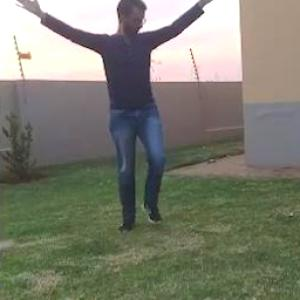takeoff: (17, 0, 224, 248)
